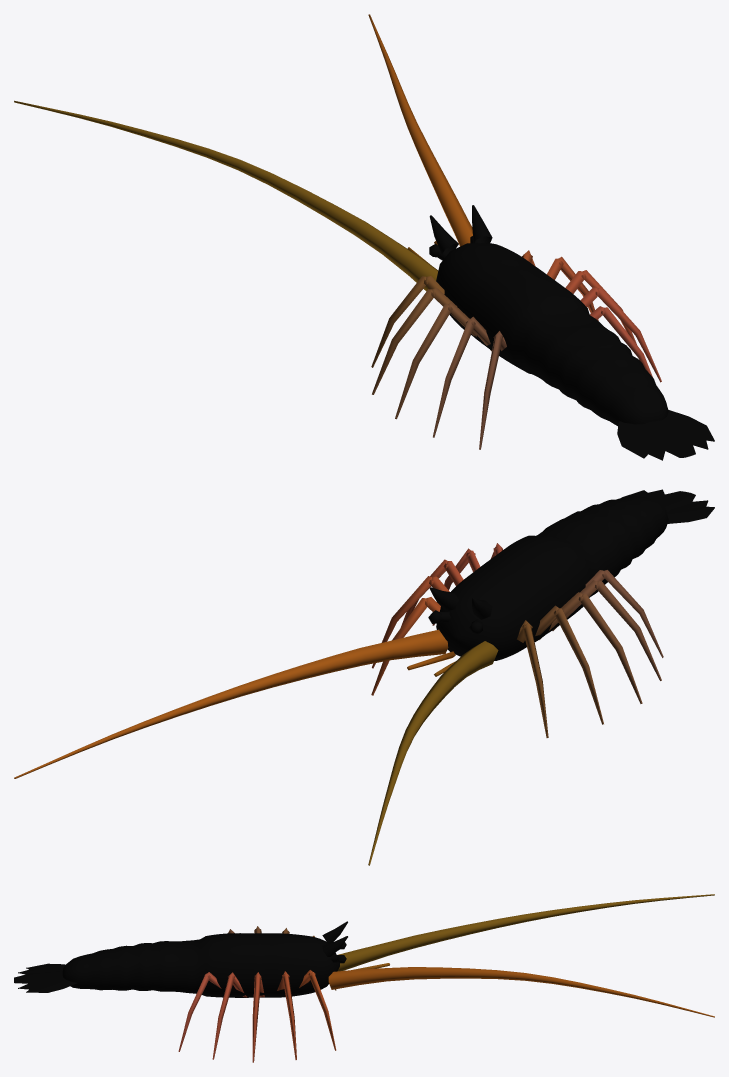
Rendered from spiny_lobster_lo.glb.
3 renders of one model, top to bottom at view 1: azimuth 30°, elevation 25°; view 2: azimuth 150°, elevation 25°; view 3: azimuth 270°, elevation 25°, orthographic. The views are drawn at different scales.
Parts seen in each view (by area): view 1: spiny_lobster_lo; view 2: spiny_lobster_lo; view 3: spiny_lobster_lo.
Part boxes in pixels (bbox=[...]): spiny_lobster_lo: bbox=[14, 14, 714, 460]; spiny_lobster_lo: bbox=[14, 489, 714, 865]; spiny_lobster_lo: bbox=[14, 894, 714, 1062].
Size of the model in its own units: 0.5222 by 0.1824 by 1.26.
